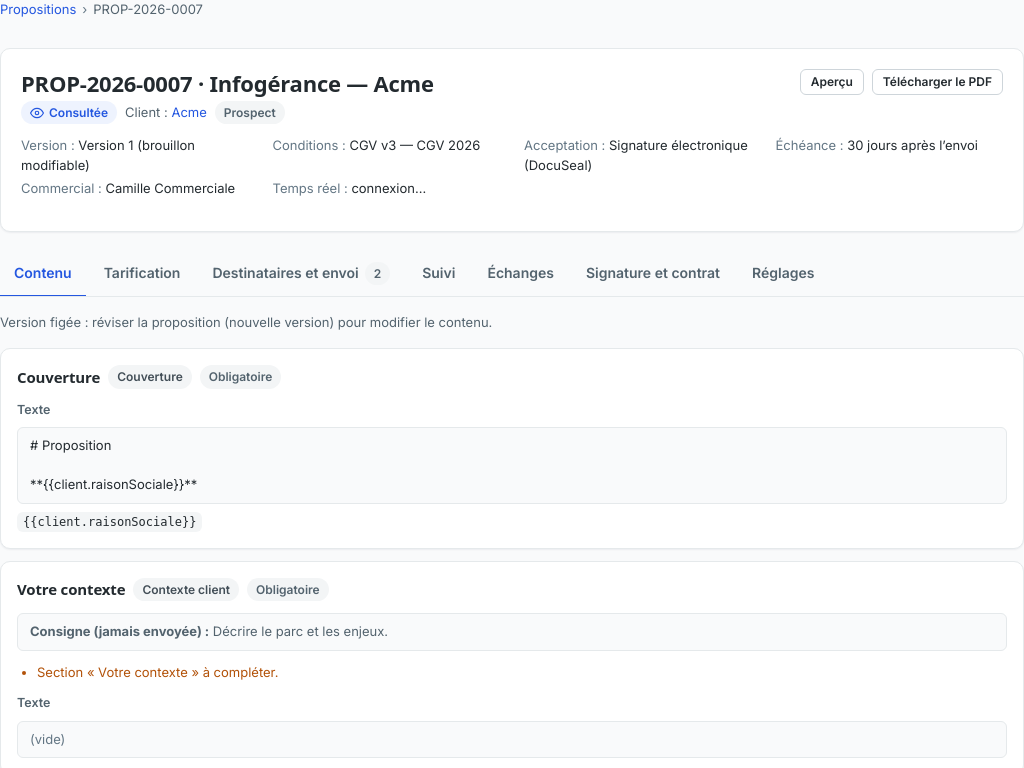
après l’envoi : configuration en lecture seule
Click the tab "Tarification" at (142, 274), box [90,252,194,297]
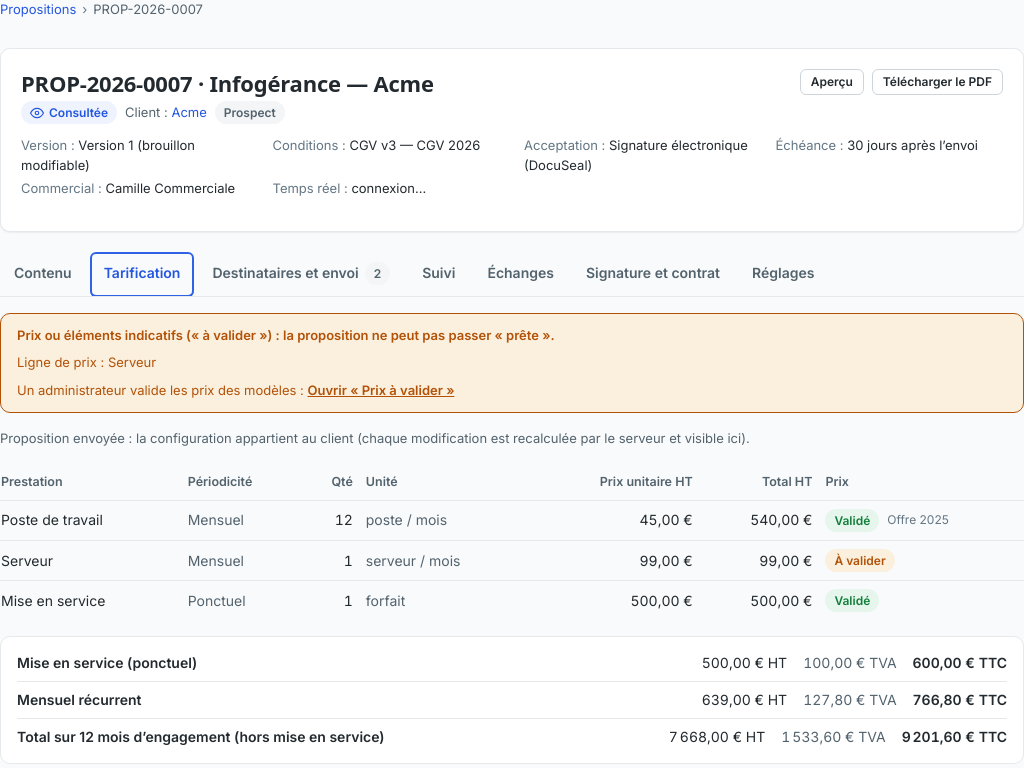
Now the text "la configuration appartient au client" is shown, box [0,430,750,446]
